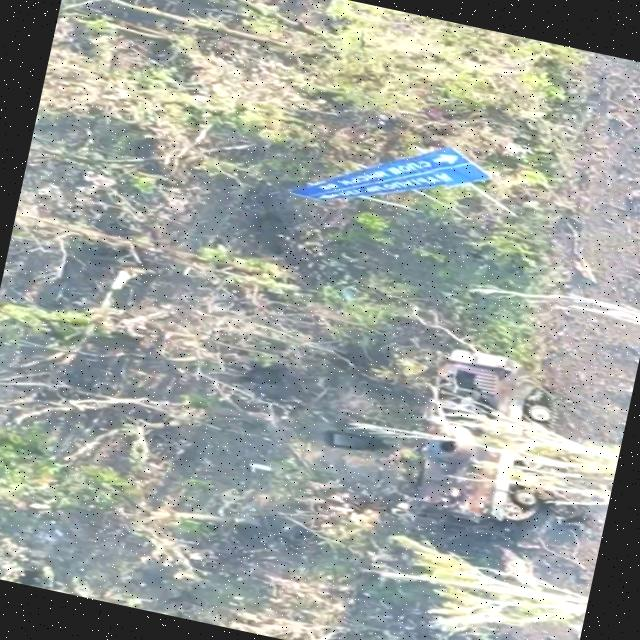Destroyed: (403, 341, 585, 537)
